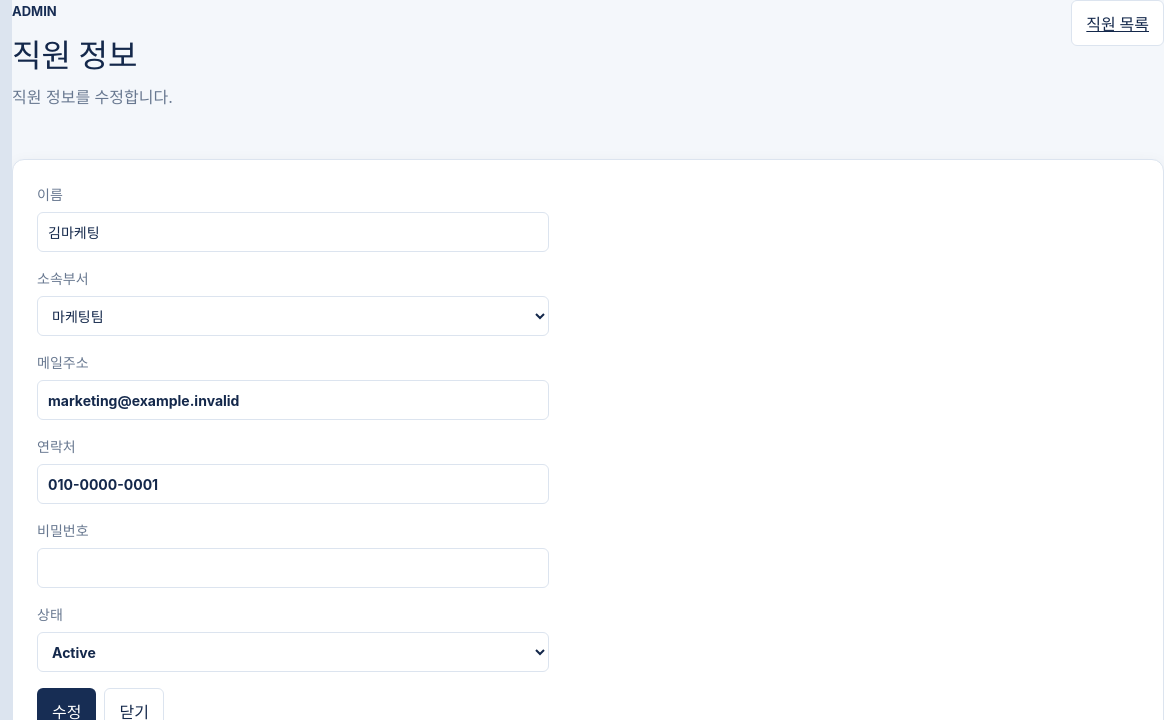
Test: EmployeeDetailPage › edits the current status and only exposes edit and close actions
Check: the heading "직원 정보" is shown, box [12,36,137,75]
Select "Inactive" in the dropdown labelled "상태". click: (293, 652)
box: [37,632,549,672]
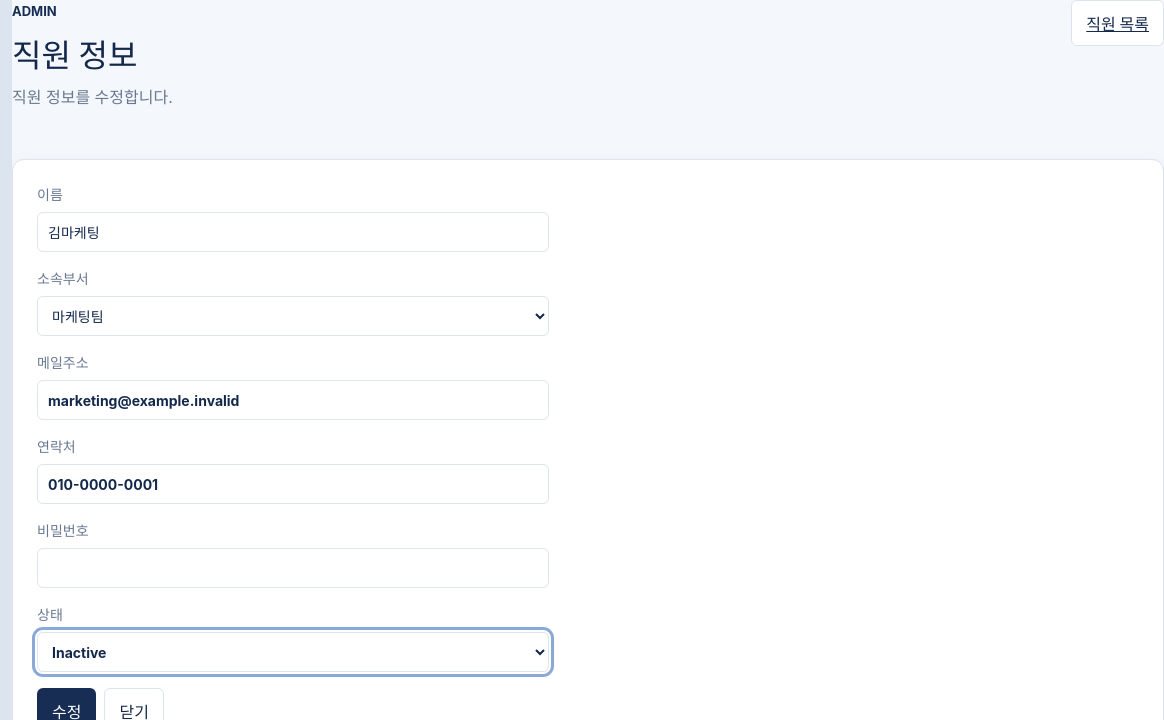
Type "new-password" into the password field labelled "비밀번호". click: (293, 568)
box: [37,548,549,588]
(page scrolled)
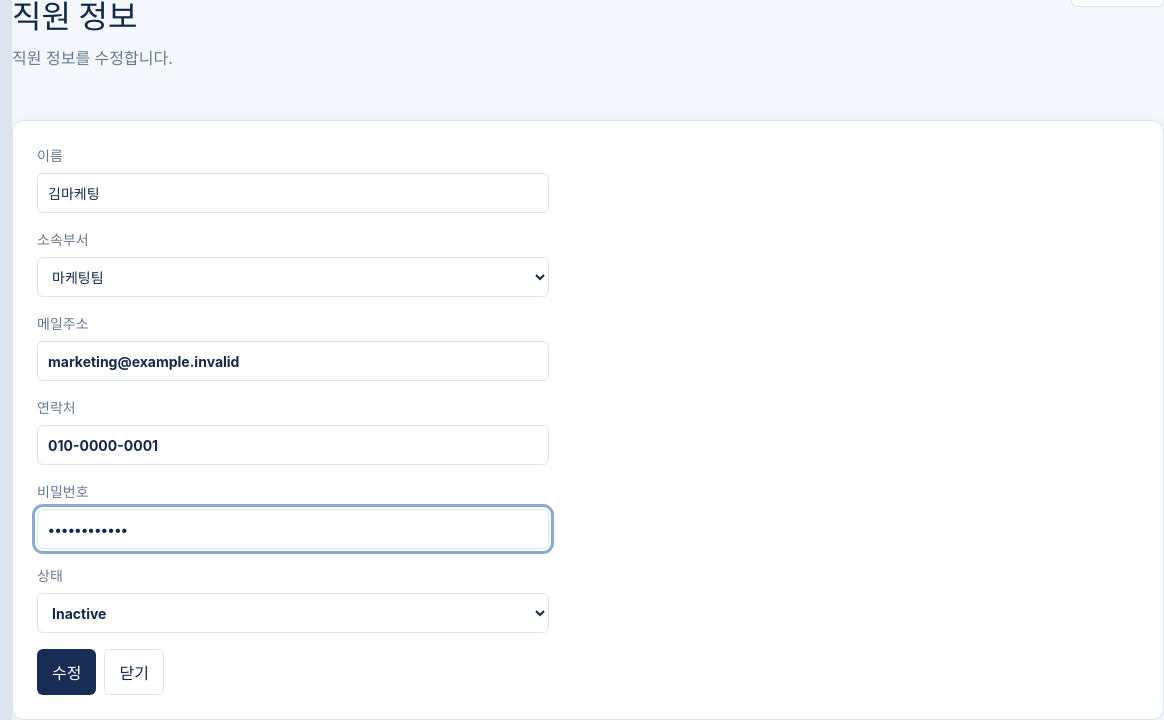
Click the button "수정". click: (67, 672)
box: [37,649,96,695]
(page scrolled)
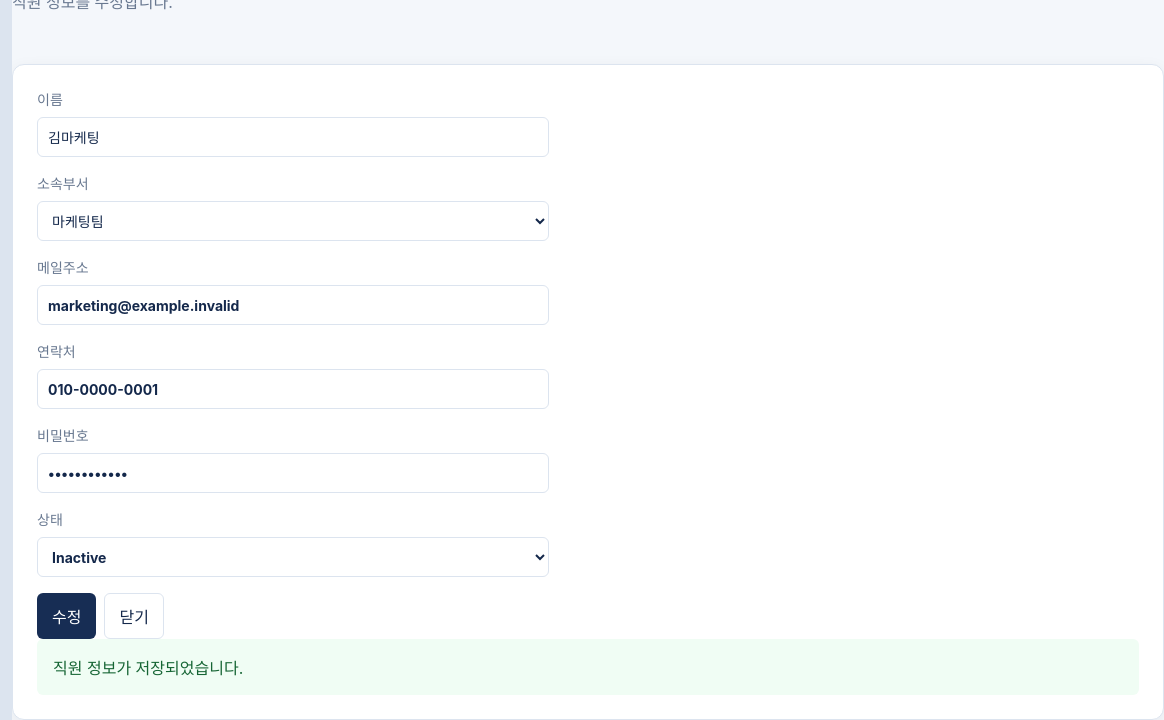
Check: the message reads "직원 정보가 저장되었습니다.", box [53,658,243,678]
